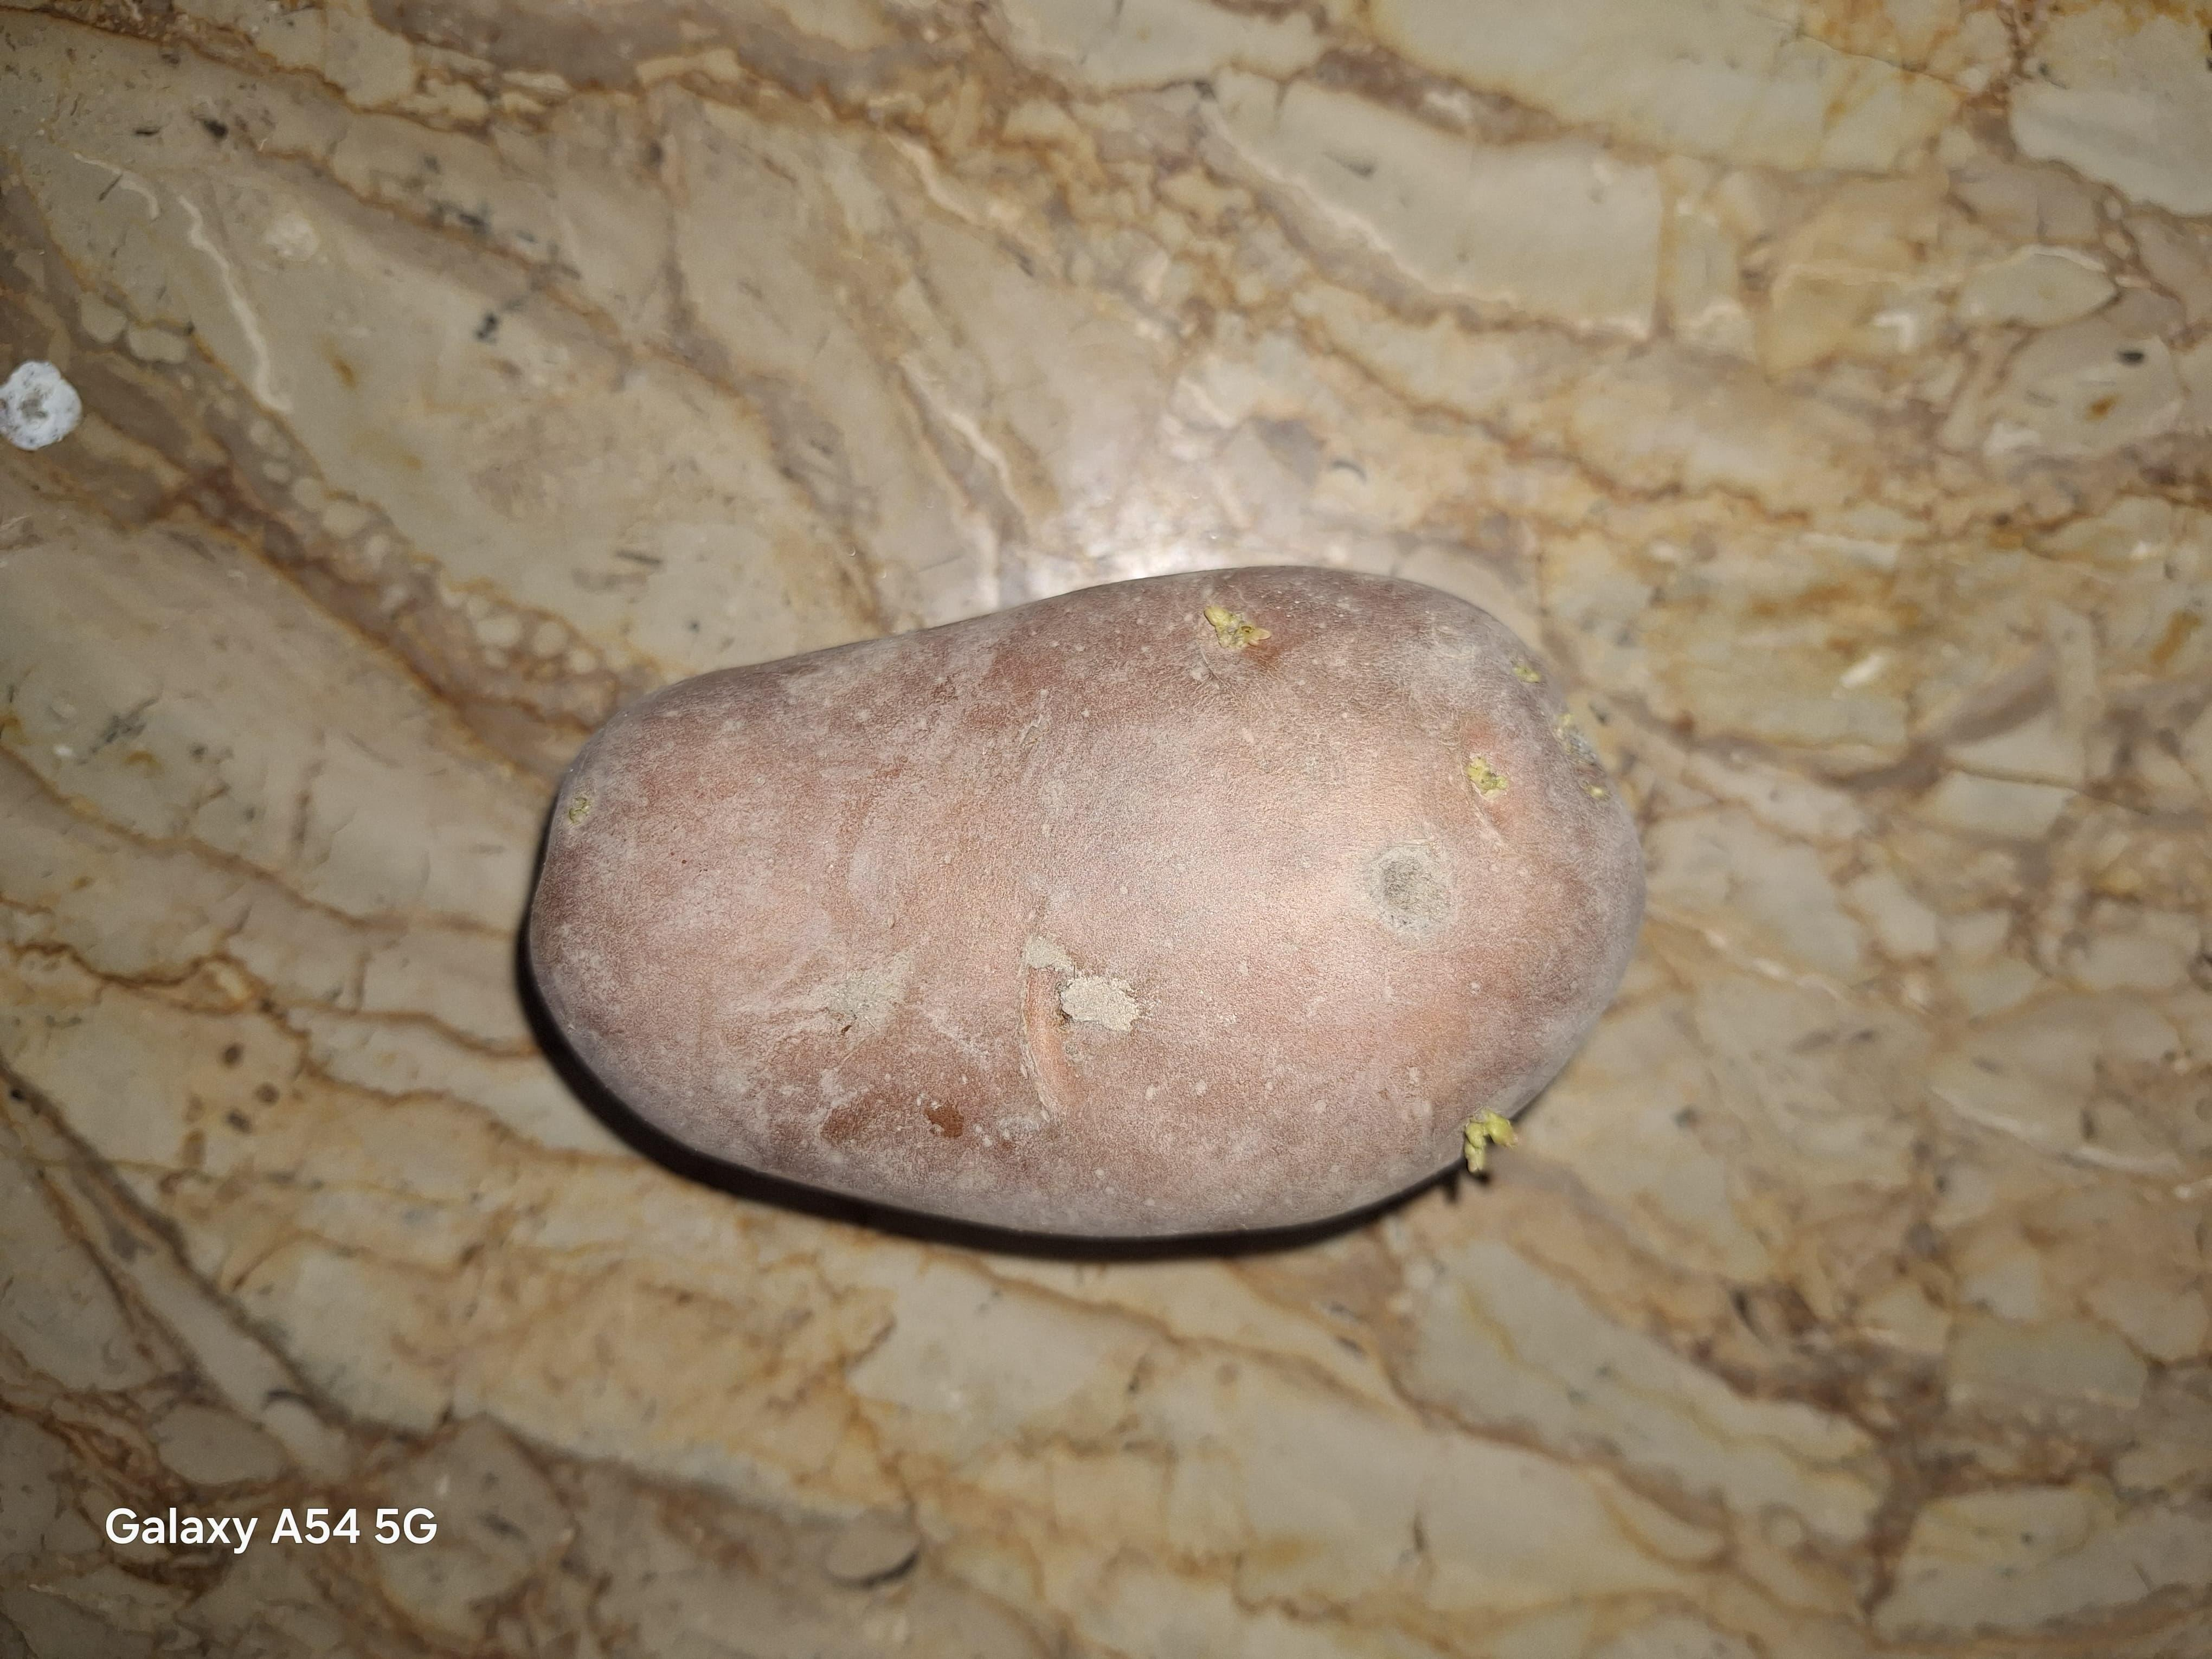non-mango: (516, 559, 1649, 1249)
